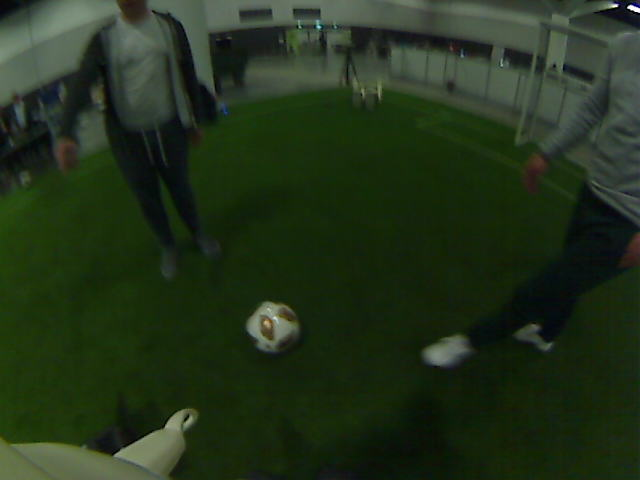ball: (251, 306, 291, 346), (17, 170, 35, 189)
goalpost: (509, 86, 530, 150)
robot: (357, 75, 372, 107)
